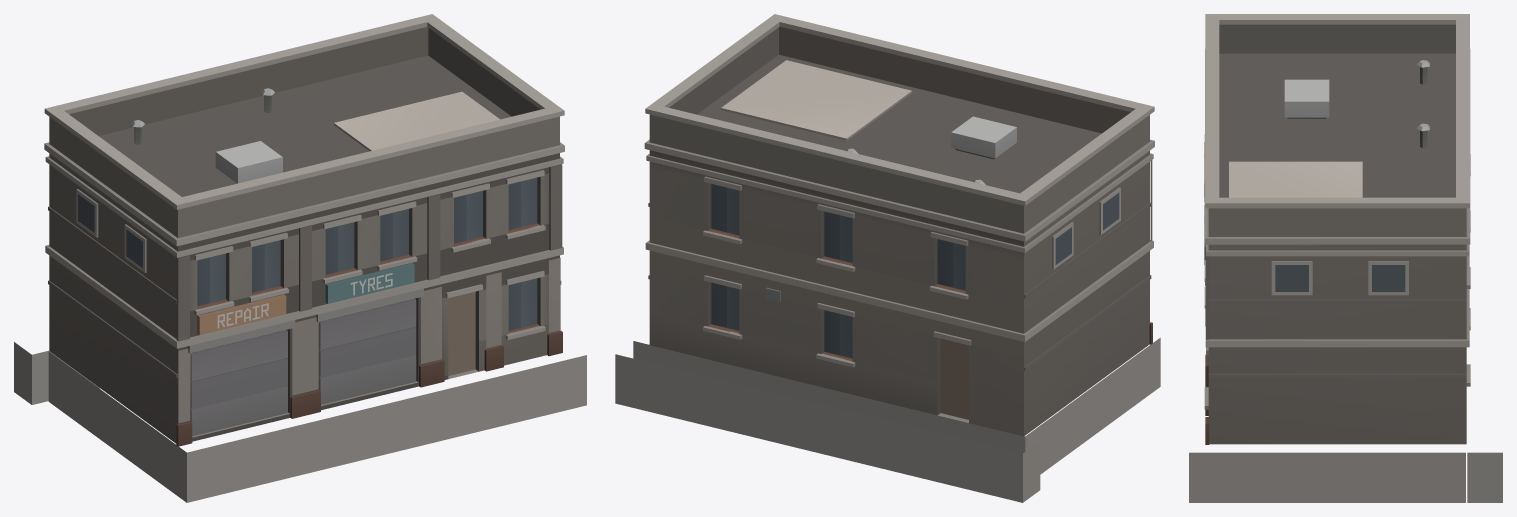
Rendered from repair.lod1.glb.
The picture shows the model from 3 angles, left to right: view 1: azimuth 30°, elevation 25°; view 2: azimuth 150°, elevation 25°; view 3: azimuth 270°, elevation 25°; orthographic projection. The views are drawn at different scales.
Size of the model in its own units: 12.96 by 8.7 by 8.46.
